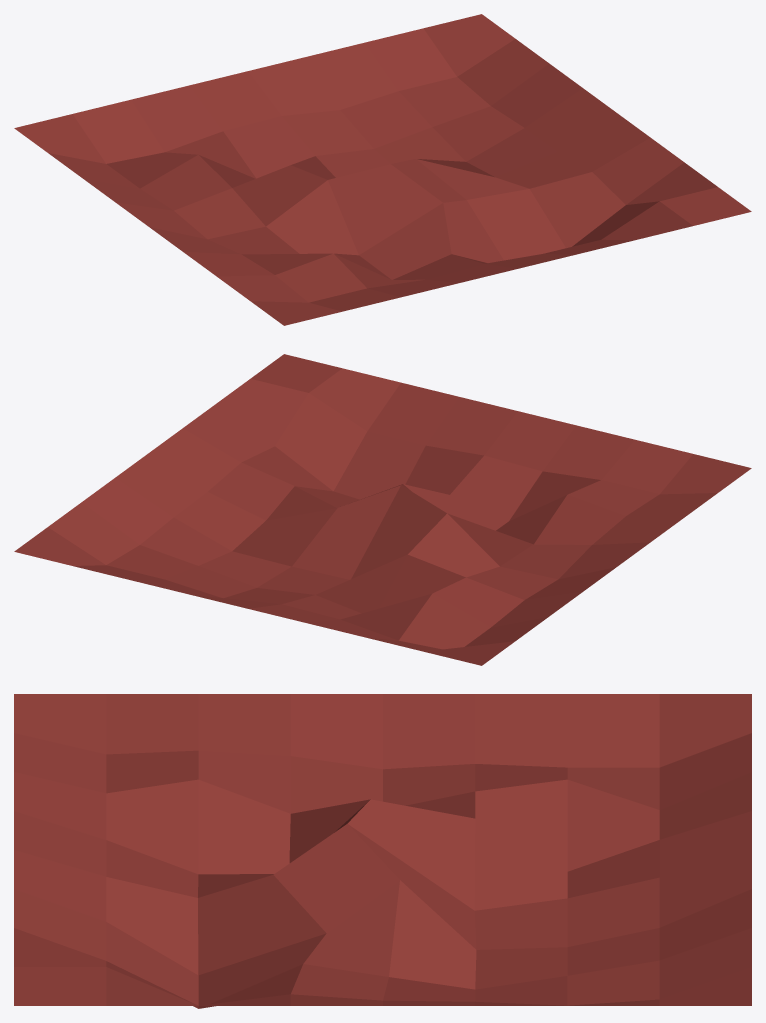
Rendered from Terrain_20_Red.fbx.
3 views of the same model, one above another, from view 1: azimuth 30°, elevation 25°; view 2: azimuth 150°, elevation 25°; view 3: azimuth 270°, elevation 25° (orthographic). The views are drawn at different scales.
Parts seen in each view (by area): view 1: Terrain_20_Red; view 2: Terrain_20_Red; view 3: Terrain_20_Red.
Boxes of the visible parts, x1,y1,x2,y2 form: Terrain_20_Red: [14, 14, 751, 325]; Terrain_20_Red: [14, 354, 751, 665]; Terrain_20_Red: [14, 694, 751, 1008].
Bounding box in the file's own units: 8000 × 1307 × 8000.
